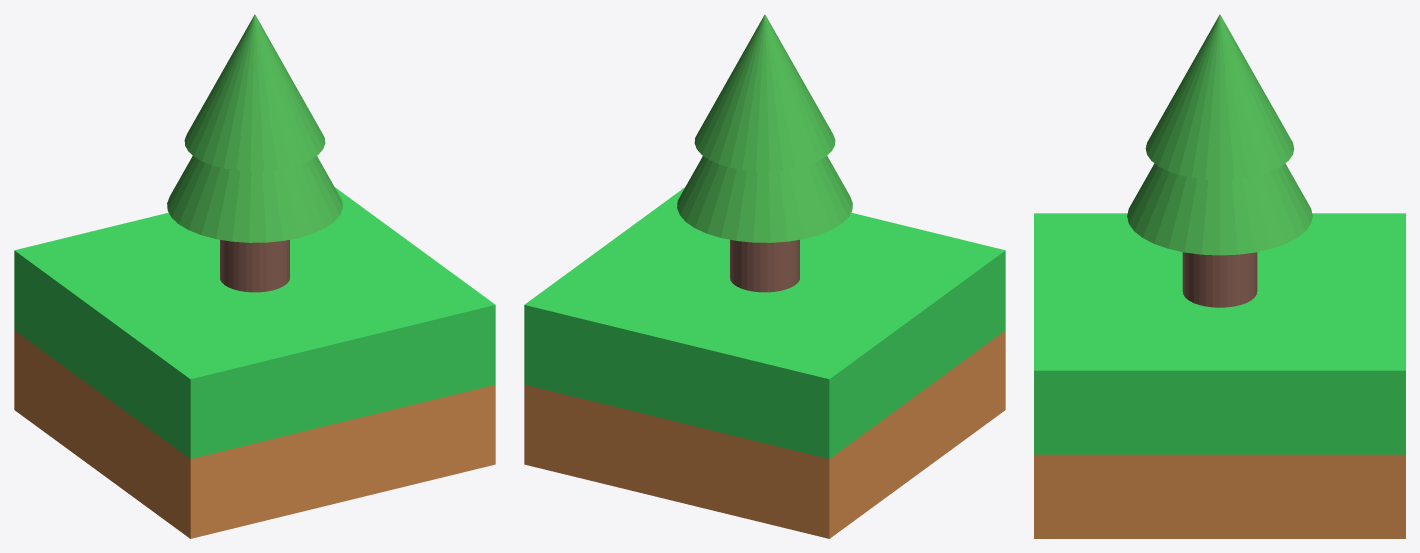
Rendered from TreeOne.fbx.
3 renders of one model, left to right at view 1: azimuth 30°, elevation 25°; view 2: azimuth 150°, elevation 25°; view 3: azimuth 270°, elevation 25°, orthographic. The views are drawn at different scales.
Visible parts, largest first — view 1: TreeOne; view 2: TreeOne; view 3: TreeOne.
Part boxes in pixels (<box>): TreeOne: <box>14,14,495,538</box>; TreeOne: <box>524,14,1005,538</box>; TreeOne: <box>1034,14,1405,538</box>.
Bounding box in the file's own units: 100 × 133 × 100.
